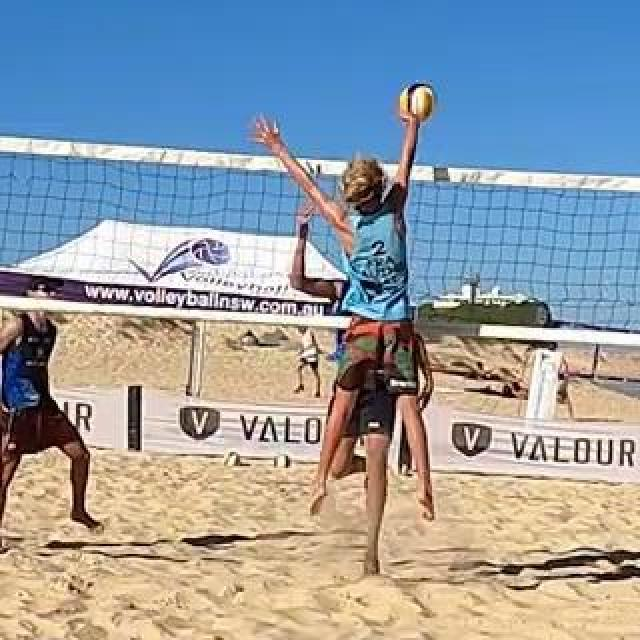volleyball: (400, 85, 436, 123), (221, 449, 241, 471), (273, 452, 289, 470)
